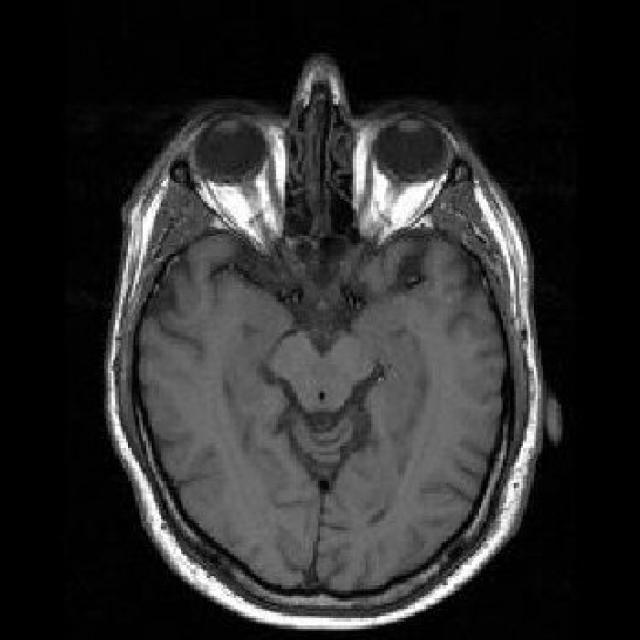No_Tumor: (107, 57, 561, 628)
